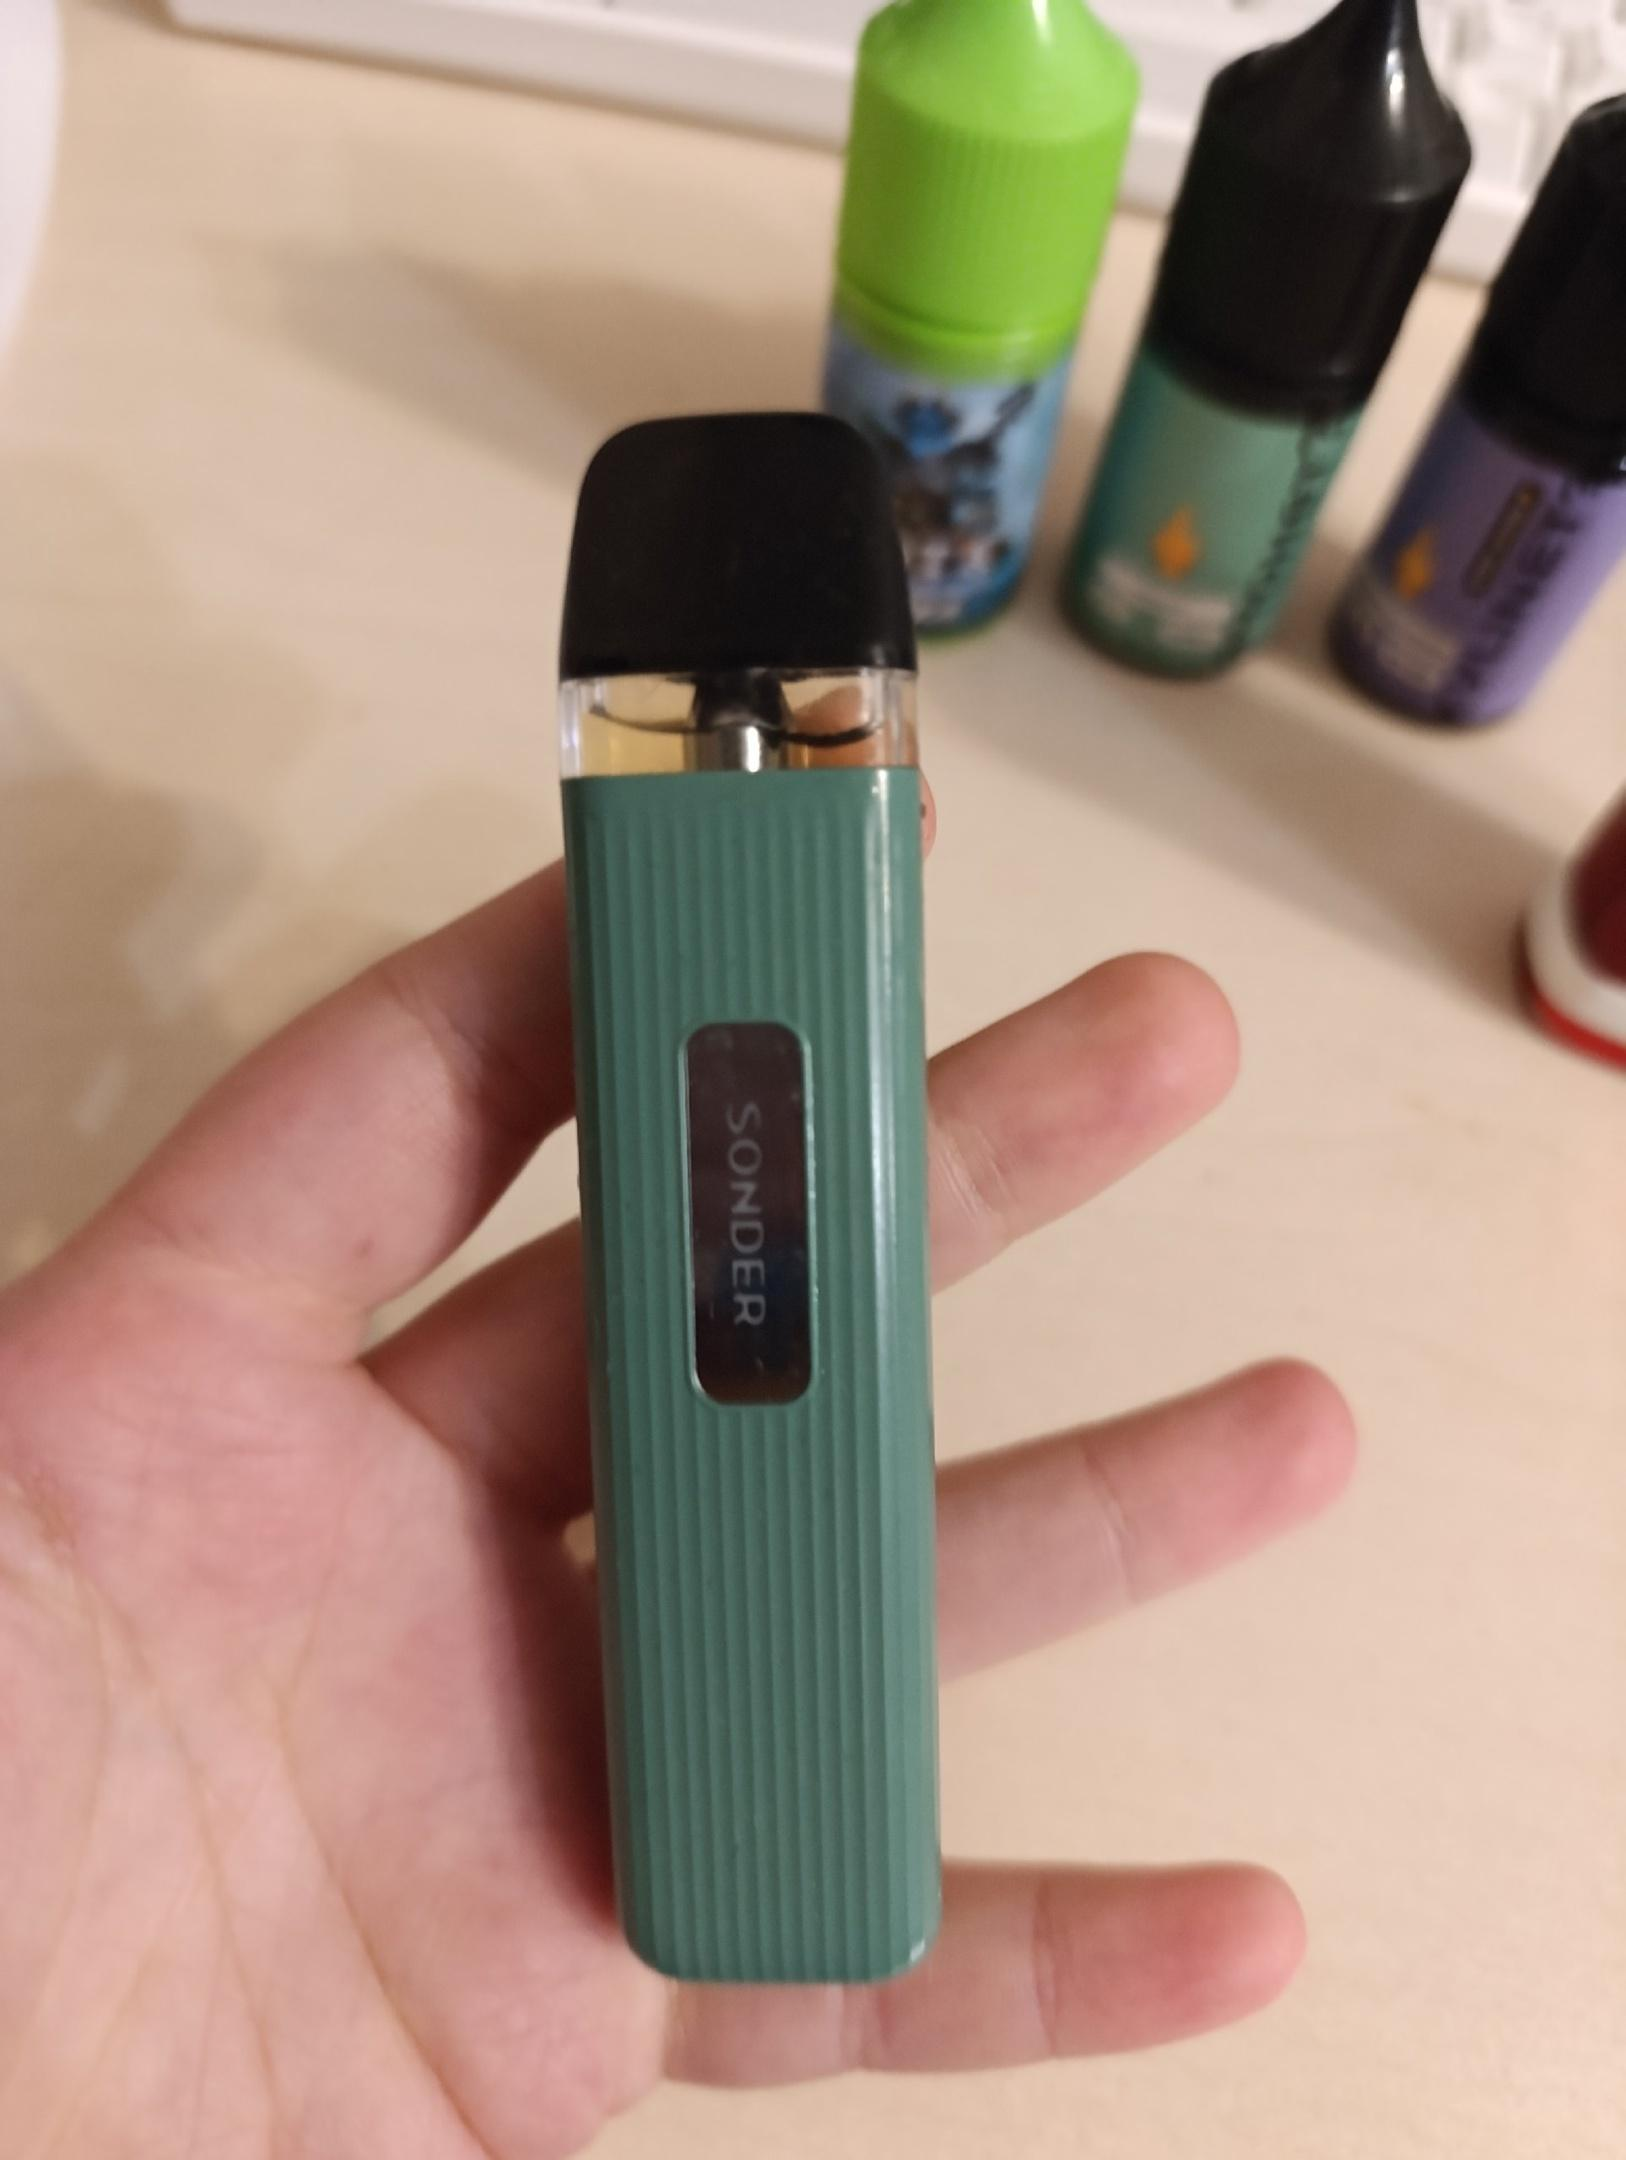Vape: (559, 413, 939, 1982)
